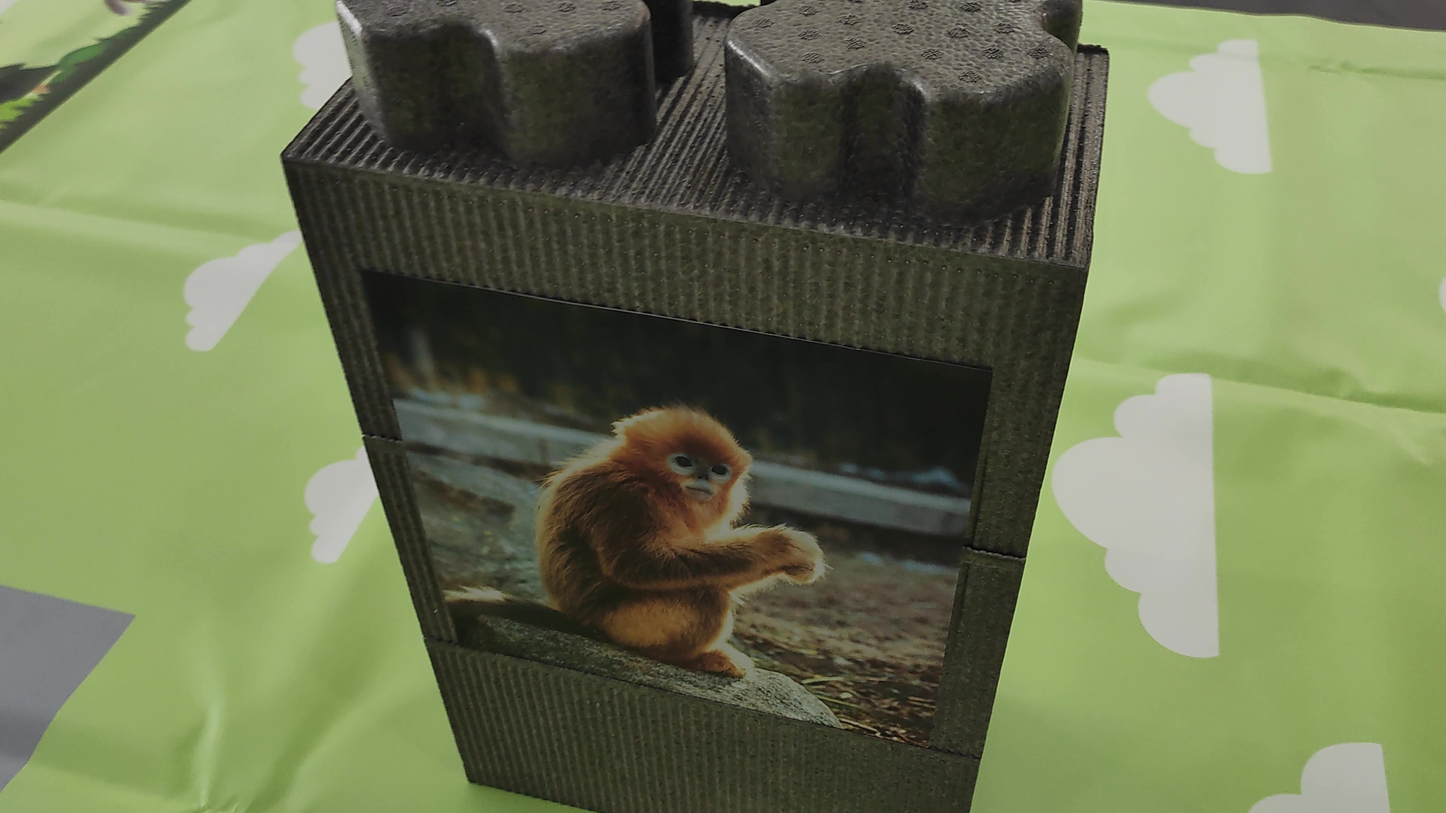monkey: (417, 355, 856, 702)
